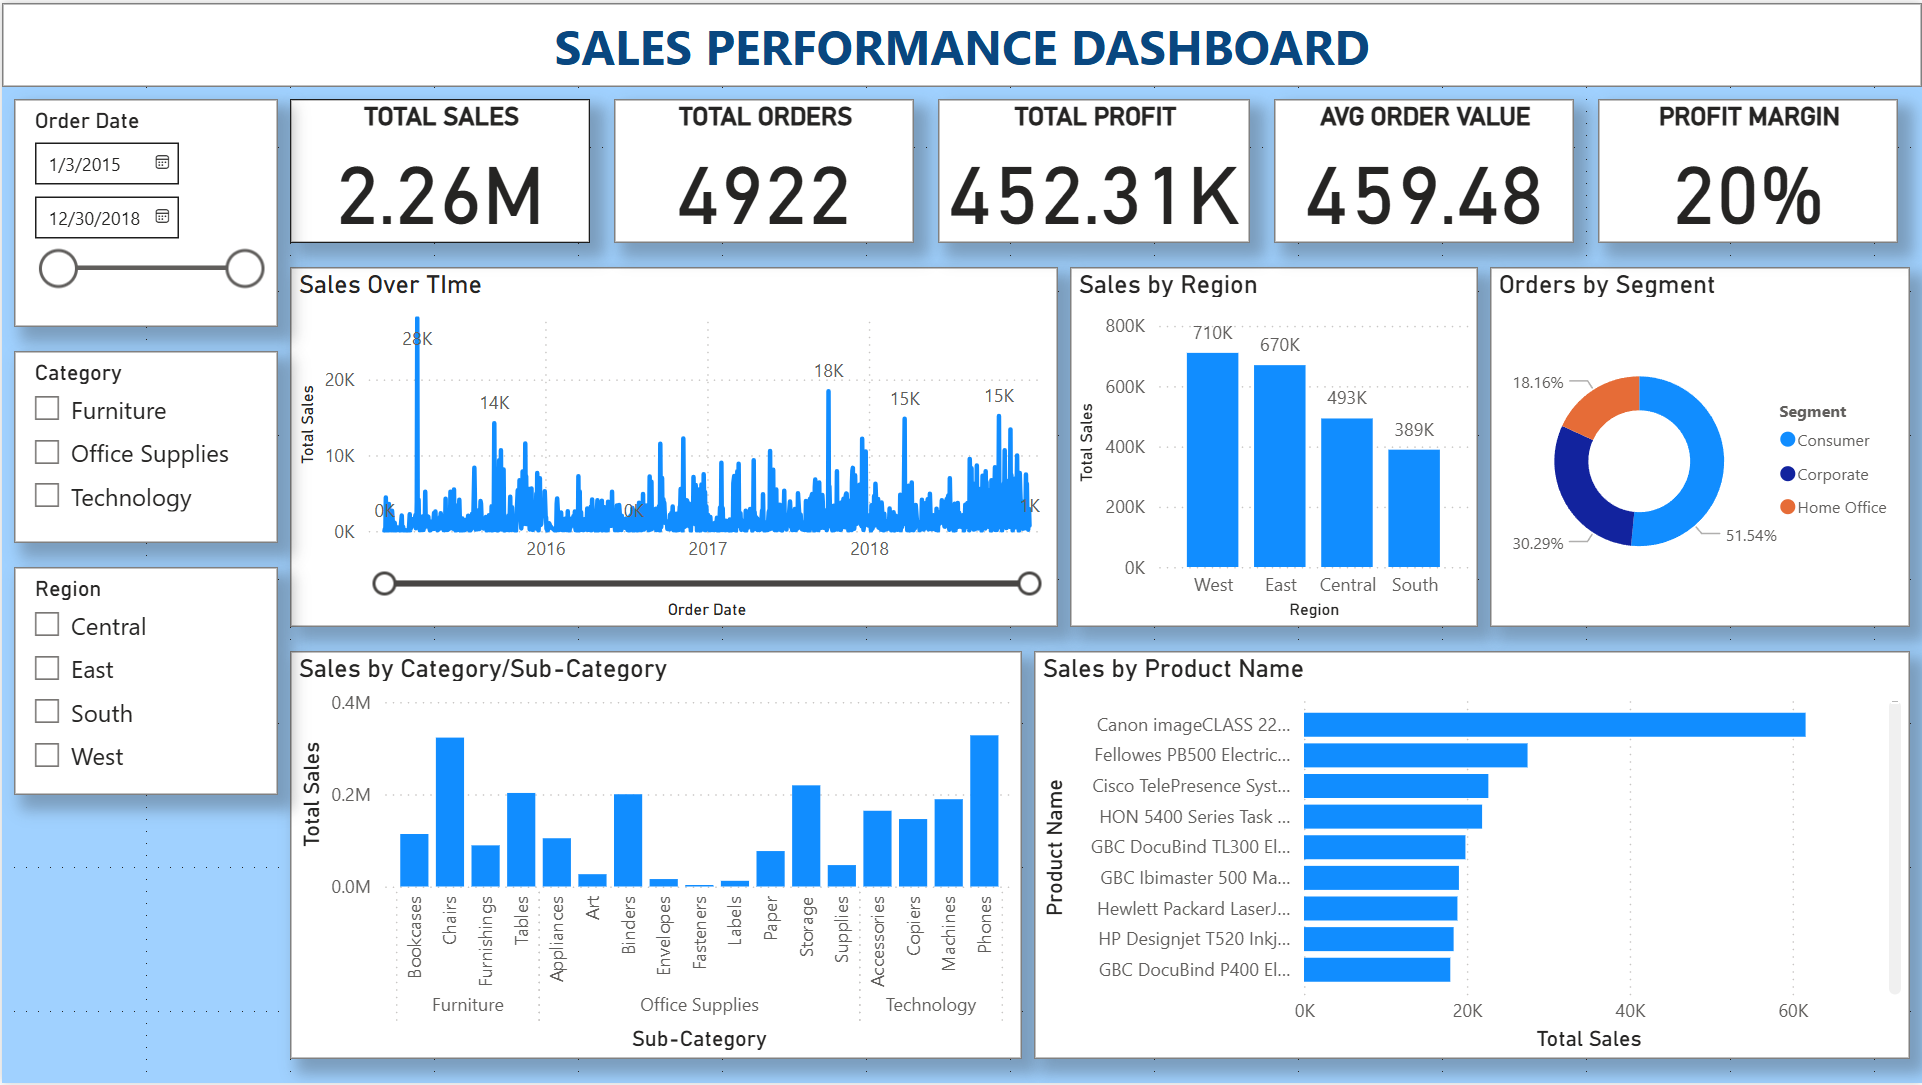

Layout of this report page (visuals, bound fields, positions):
{"tool":"powerbi","page":{"name":"Page 1","canvas":[1280,720],"ordinal":0},"visuals":[{"type":"card","title":"TOTAL SALES","fields":{"Values":["superstore.Total Sales"]},"box":[192,64,200,96],"z":0,"group":"g1"},{"type":"lineChart","title":"Sales Over TIme","fields":{"Y":["superstore.Total Sales"],"Category":["superstore.Order Date"]},"box":[192,176,512,240],"z":0},{"type":"card","title":"TOTAL ORDERS","fields":{"Values":["superstore.Total Orders"]},"box":[408,64,200,96],"z":1000,"group":"g1"},{"type":"columnChart","title":"Sales by Region","fields":{"Category":["superstore.Region"],"Y":["superstore.Total Sales"]},"box":[712,176,272,240],"z":1000},{"type":"card","title":"TOTAL PROFIT","fields":{"Values":["superstore.Total Profit"]},"box":[624,64,208,96],"z":2000,"group":"g1"},{"type":"columnChart","title":"Sales by Category/Sub-Category","fields":{"Category":["superstore.Category","superstore.Sub-Category"],"Y":["superstore.Total Sales"]},"box":[192,432,488,272],"z":2000},{"type":"card","title":"AVG ORDER VALUE","fields":{"Values":["superstore.Avg Order Value"]},"box":[848,64,200,96],"z":3000,"group":"g1"},{"type":"donutChart","title":"Orders by Segment","fields":{"Category":["superstore.Segment"],"Y":["superstore.Total Orders"]},"box":[992,176,280,240],"z":3000},{"type":"card","title":"PROFIT MARGIN","fields":{"Values":["superstore.Profit Margin"]},"box":[1064,64,200,96],"z":4000,"group":"g1"},{"type":"barChart","title":"Sales by Product Name","fields":{"Category":["superstore.Product Name"],"Y":["superstore.Total Sales"]},"box":[688,432,584,272],"z":4000},{"type":"textbox","box":[0,0,1280,56],"z":5000},{"type":"group","id":"g1","title":"Group 1","box":[192,64,1072,96],"z":6000},{"type":"slicer","fields":{"Values":["superstore.Order Date"]},"box":[8,64,176,152],"z":7000},{"type":"slicer","fields":{"Values":["superstore.Category"]},"box":[8,232,176,128],"z":8000},{"type":"slicer","fields":{"Values":["superstore.Region"]},"box":[8,376,176,152],"z":9000}]}

Visuals, with their boxes in screenshot pixels (x1, y1, x2, y2), scaled from the page's 1280x720 canvas onto the 1922x1085 screenshot:
"TOTAL SALES" card: 288:96:589:241
"Sales Over TIme" lineChart: 288:265:1057:627
"TOTAL ORDERS" card: 613:96:913:241
"Sales by Region" columnChart: 1069:265:1478:627
"TOTAL PROFIT" card: 937:96:1249:241
"Sales by Category/Sub-Category" columnChart: 288:651:1021:1061
"AVG ORDER VALUE" card: 1273:96:1574:241
"Orders by Segment" donutChart: 1490:265:1910:627
"PROFIT MARGIN" card: 1598:96:1898:241
"Sales by Product Name" barChart: 1033:651:1910:1061
textbox: 0:0:1921:84
"Group 1" group: 288:96:1898:241
slicer - superstore.Order Date: 12:96:276:326
slicer - superstore.Category: 12:350:276:542
slicer - superstore.Region: 12:567:276:796
